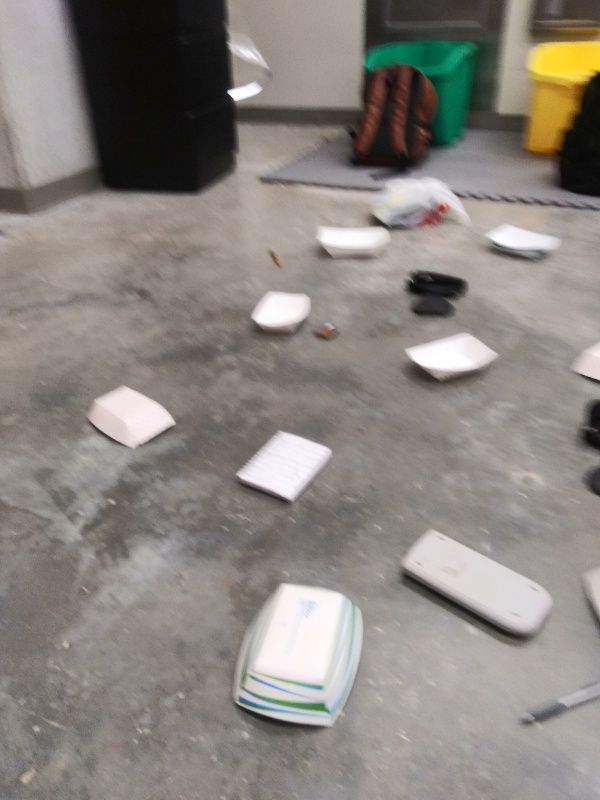plate: (230, 579, 371, 732), (82, 382, 184, 452), (402, 328, 503, 384), (481, 220, 568, 265), (248, 288, 316, 339), (313, 220, 392, 263), (569, 337, 600, 389)
